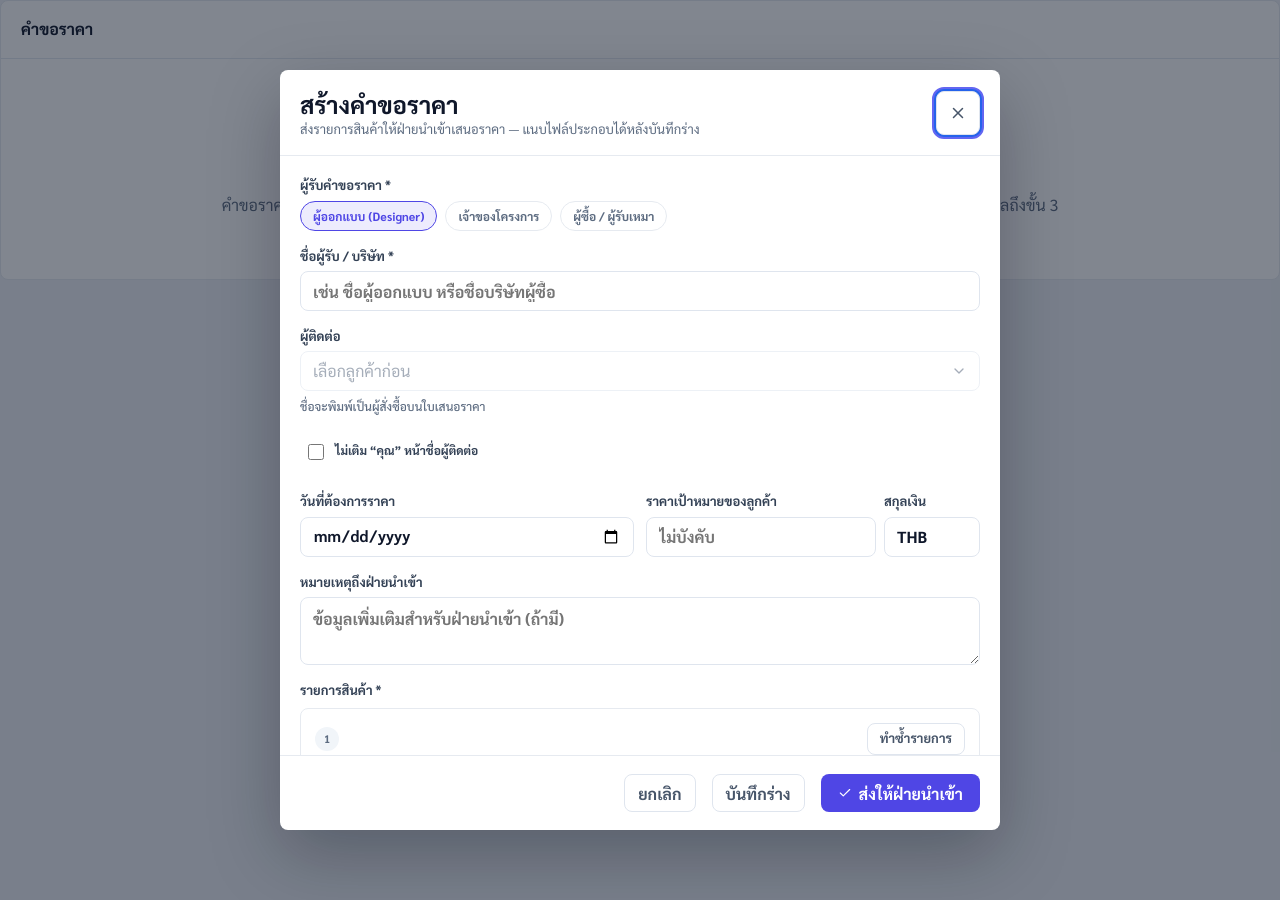
PricingRequestPanel › closing the create form re-reads the deal's requests, so a draft it already saved shows
The width and height of the screenshot is (1280, 900).
Click the button "ยกเลิก" at (660, 793), box [624,774,696,812]
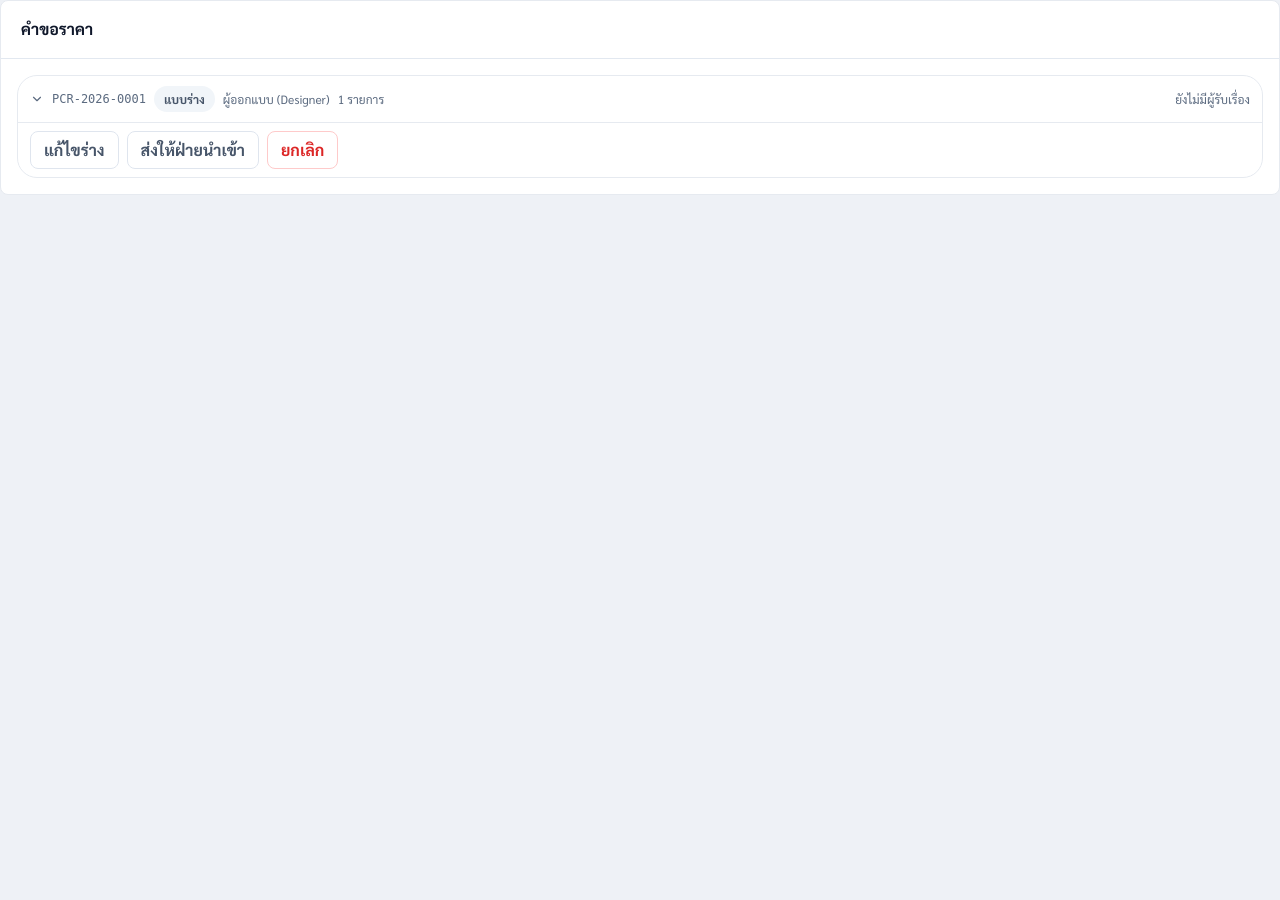
Result: the text "PCR-2026-0001" is shown at [52,91,146,107]
